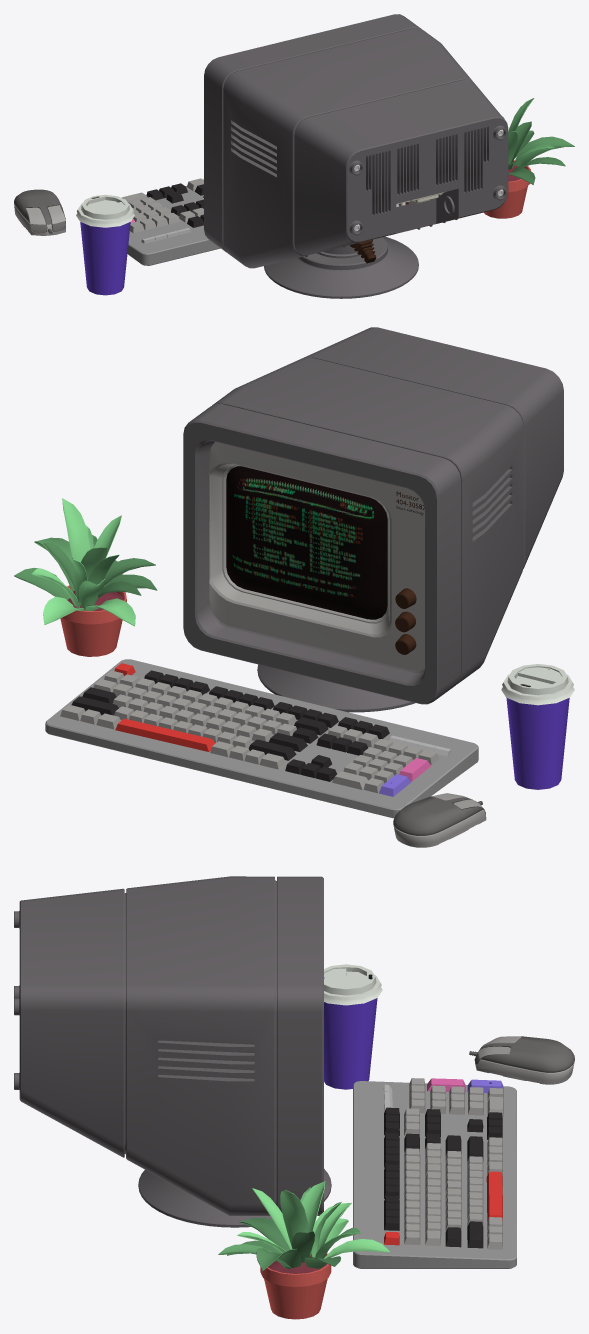
The model's file is Blender.glb.
3 views of the same model, one above another, from view 1: azimuth 30°, elevation 25°; view 2: azimuth 150°, elevation 25°; view 3: azimuth 270°, elevation 25° (orthographic). The views are drawn at different scales.
Parts seen in each view (by area): view 1: Куб.015, to-go_coffee_cup_OBJ.002, Куб.095, Икосфера.005, to-go_coffee_cup_OBJ, Potted_plants.001, Potted_plants.004, Куб.107; view 2: Куб.015, Куб.001, Куб.106, Куб.095, to-go_coffee_cup_OBJ.002, Икосфера.005, Potted_plants.001, to-go_coffee_cup_OBJ, Куб.002, Куб.107, Potted_plants.002; view 3: Куб.015, Куб.095, to-go_coffee_cup_OBJ.002, Икосфера.005, Potted_plants.001, to-go_coffee_cup_OBJ, Potted_plants.002, Куб.002, Potted_plants.004, Potted_plants.013, Potted_plants.007, Potted_plants.019 (+2 smaller).
Boxes of the visible parts, x1,y1,x2,y2 form: Куб.015: (204, 14, 508, 298); to-go_coffee_cup_OBJ.002: (80, 222, 130, 295); Куб.095: (127, 186, 220, 265); Икосфера.005: (14, 189, 65, 235); to-go_coffee_cup_OBJ: (76, 194, 134, 227); Potted_plants.001: (484, 160, 530, 218); Potted_plants.004: (515, 136, 574, 166); Куб.107: (350, 202, 408, 263); Куб.015: (183, 327, 563, 712); Куб.001: (226, 466, 387, 619); Куб.106: (209, 441, 424, 670); Куб.095: (45, 659, 478, 818); to-go_coffee_cup_OBJ.002: (506, 697, 569, 789); Икосфера.005: (393, 793, 486, 847); Potted_plants.001: (60, 585, 126, 656); to-go_coffee_cup_OBJ: (501, 664, 574, 705); Куб.002: (115, 718, 215, 751); Куб.107: (395, 491, 424, 654); Potted_plants.002: (62, 498, 89, 562); Куб.015: (14, 876, 331, 1227); Куб.095: (353, 1081, 516, 1268); to-go_coffee_cup_OBJ.002: (324, 976, 377, 1089); Икосфера.005: (469, 1036, 574, 1084); Potted_plants.001: (260, 1253, 331, 1319); to-go_coffee_cup_OBJ: (324, 964, 382, 1005); Potted_plants.002: (280, 1190, 307, 1247); Куб.002: (486, 1171, 502, 1221); Potted_plants.004: (256, 1248, 300, 1270); Potted_plants.013: (324, 1239, 390, 1258); Potted_plants.007: (239, 1217, 289, 1250); Potted_plants.019: (301, 1181, 325, 1231).
Bounding box in the file's own units: 0.6597 × 0.2899 × 0.5577.
Materials: 142 (1 with a texture image).
